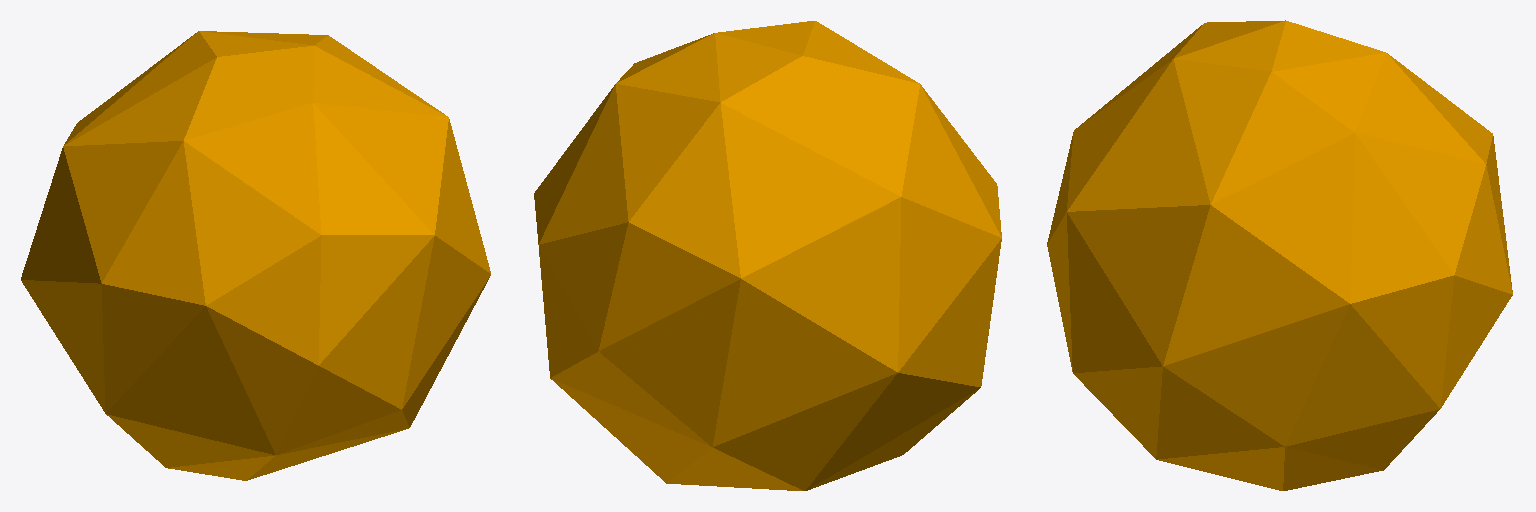
robot.urdf — bipyramid:
<?xml version='1.0' encoding='UTF-8'?>
<robot name="bipyramid">
  <link name="semantic_link">
    <inertial>
      <origin xyz="0.0 0.0 0.0" rpy="0.0 -0.0 0.0"/>
      <mass value="0.001"/>
      <inertia ixx="0.001" ixy="0.0" ixz="0.0" iyy="0.001" iyz="0.0" izz="0.001"/>
    </inertial>
    <visual name="semantic_base_link_visual">
      <geometry>
        <mesh filename="sphere_small_60.stl"/>
      </geometry>
    </visual>
    <collision name="semantic_base_link_collision">
      <geometry>
        <mesh filename="sphere_small_60.stl"/>
      </geometry>
    </collision>
  </link>
</robot>

--- What the picture shows (computed from the rendered views, not written in the file) ---
Views: 3 orthographic renders of the robot side by side, from view 1: azimuth 30°, elevation 25°; view 2: azimuth 150°, elevation 25°; view 3: azimuth 270°, elevation 25°.
Model bipyramid with 1 links and 0 joints (none), rooted at semantic_link, posed all joints at 0.
Visible links, largest first — view 1: semantic_link; view 2: semantic_link; view 3: semantic_link.
Link boxes in pixels (x1,y1,x2,y2): semantic_link: [21, 31, 490, 480]; semantic_link: [534, 21, 1001, 490]; semantic_link: [1047, 20, 1512, 490].
Size in the robot's own frame: 0.9666 by 0.9941 by 1 metres.
Meshes: 1 distinct files referenced, 1 mesh visuals loaded (1 binary STL).